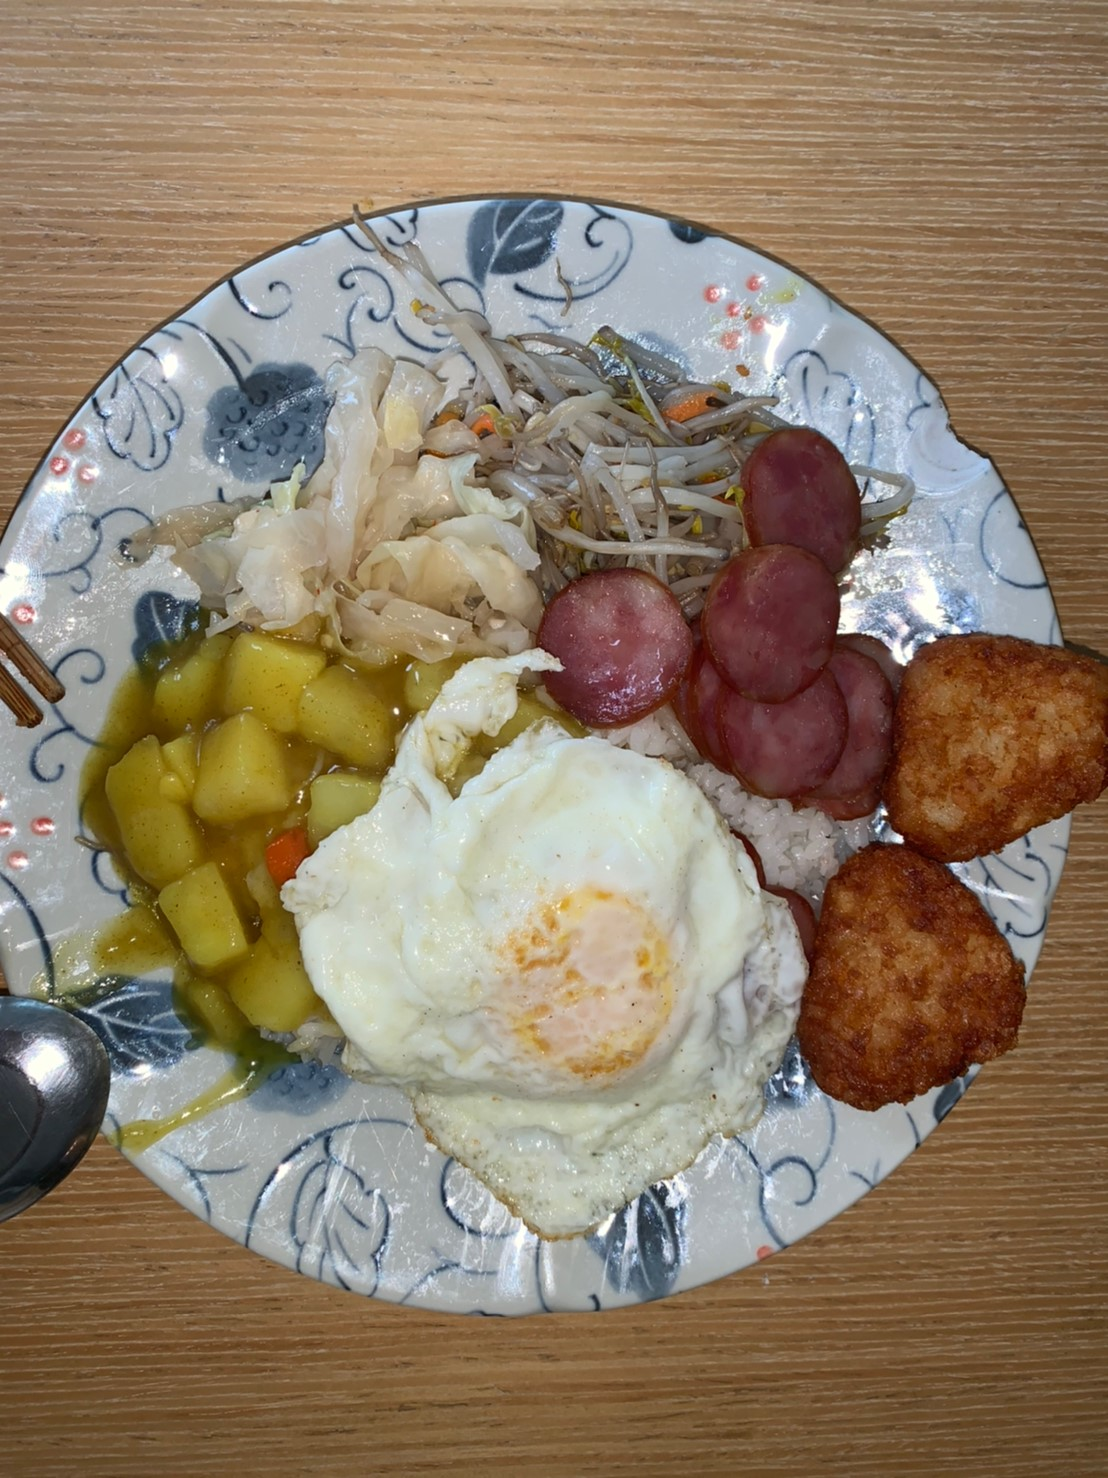chinese_cabbage: (246, 377, 530, 662)
chinese_sausage: (555, 422, 892, 816)
curry: (126, 640, 339, 1033)
fried_eggs: (301, 667, 775, 1225)
mung_bean_sprouts: (512, 354, 722, 567)
rice: (720, 776, 861, 895)
triangle_hash_brown: (802, 621, 1108, 1121)
